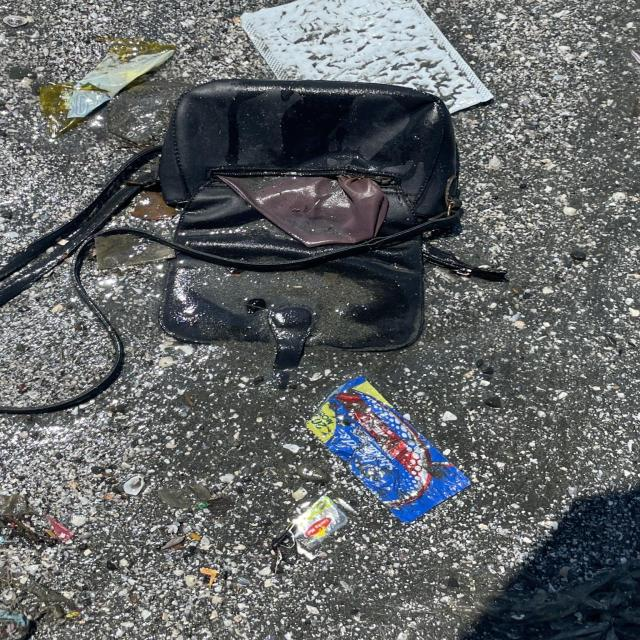plastic_waste: (304, 376, 474, 524), (38, 37, 178, 141), (293, 495, 349, 552), (45, 514, 75, 545)
textile_waste: (157, 77, 467, 355)
